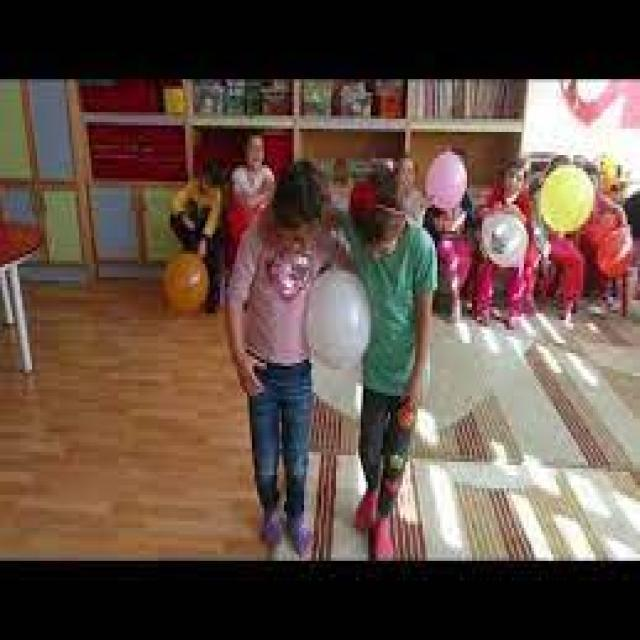balloon: (308, 267, 372, 362), (538, 162, 594, 240), (164, 251, 212, 316), (426, 150, 466, 216), (481, 215, 529, 270)
